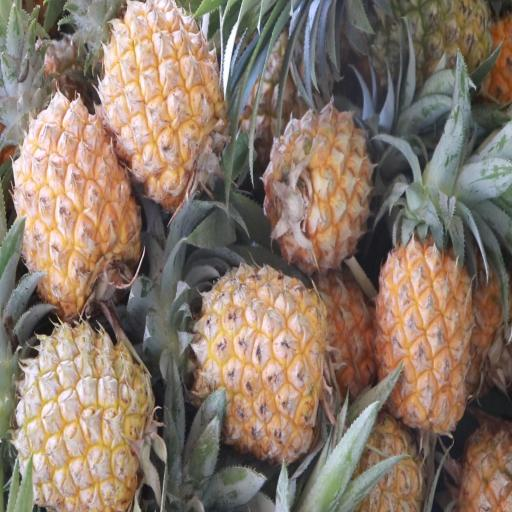Pineapple - v8 v1: (16, 104, 142, 316), (195, 266, 325, 456), (18, 328, 152, 512), (101, 4, 228, 198), (376, 232, 474, 433), (266, 105, 372, 268)
